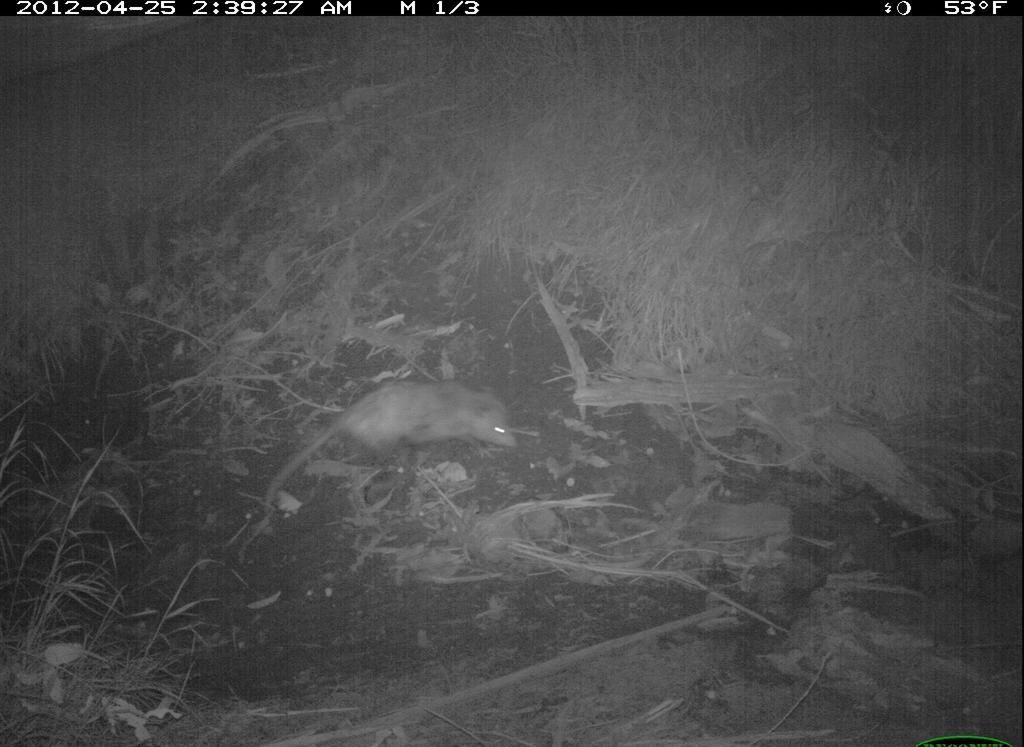opossum: (259, 372, 525, 528)
